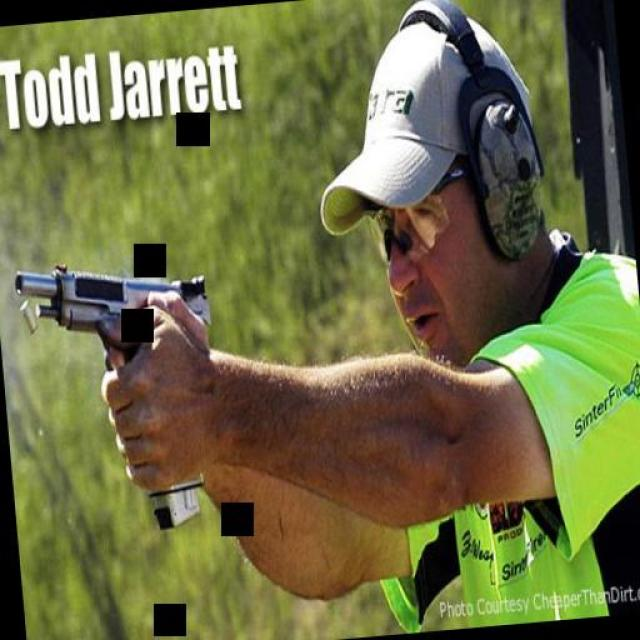gun: (6, 245, 226, 537)
